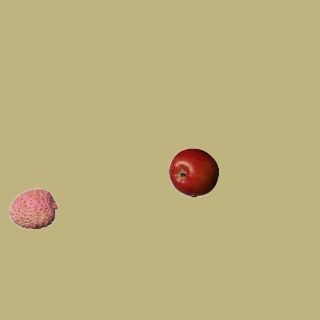Apple Braeburn: (168, 147, 218, 197)
Lychee: (8, 183, 58, 233)
